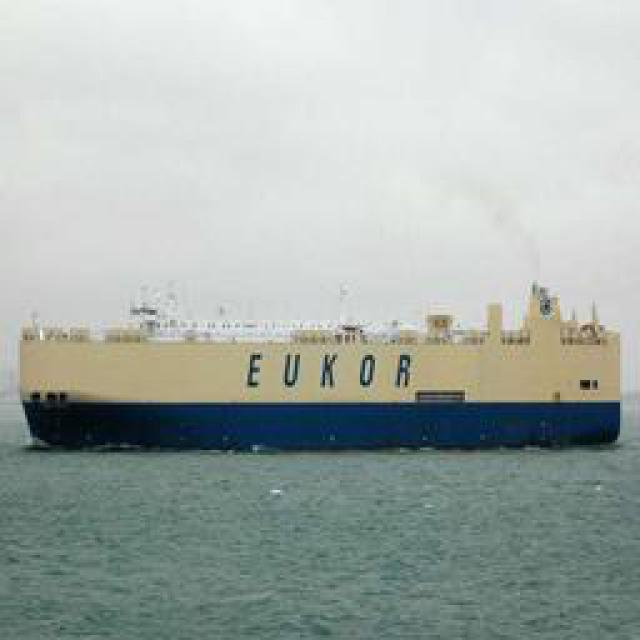Ship: (13, 271, 631, 456)
